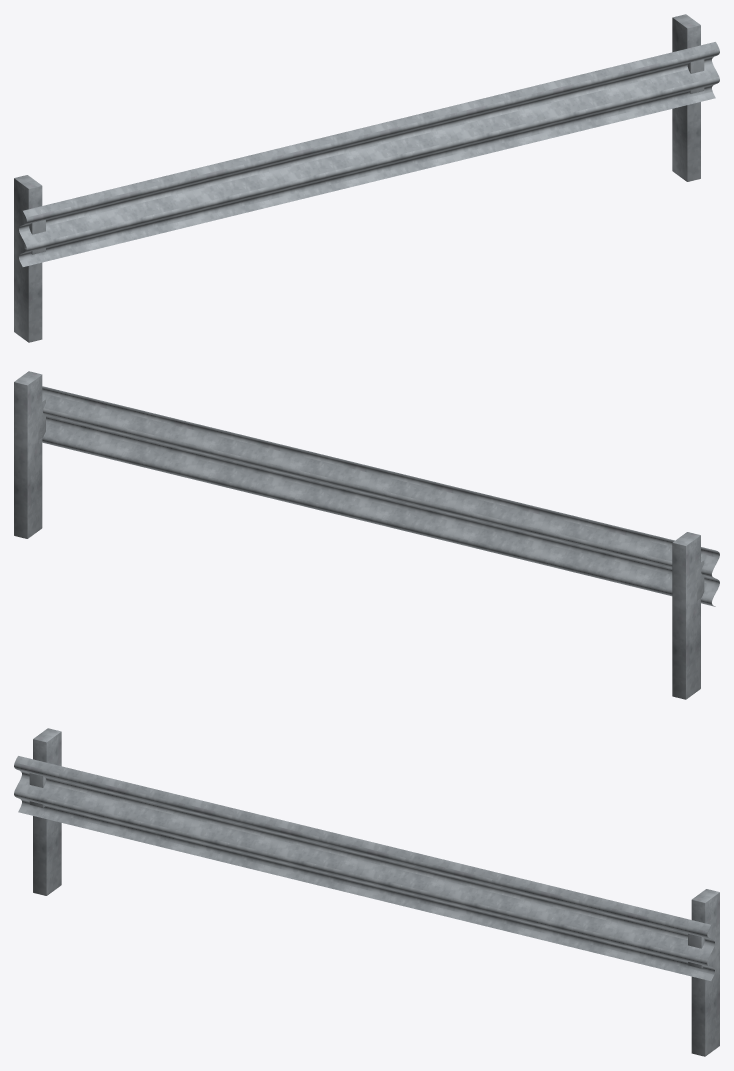
File: PAV-SIN-003_lod1.glb
3 renders of one model, top to bottom at view 1: azimuth 30°, elevation 25°; view 2: azimuth 150°, elevation 25°; view 3: azimuth 330°, elevation 25°, orthographic.
Visible parts, largest first — view 1: PAV-SIN-003_lamina, PAV-SIN-003_poste-19, PAV-SIN-003_poste19; view 2: PAV-SIN-003_lamina, PAV-SIN-003_poste19, PAV-SIN-003_poste-19; view 3: PAV-SIN-003_lamina, PAV-SIN-003_poste19, PAV-SIN-003_poste-19.
Part boxes in pixels (<box>): PAV-SIN-003_lamina: <box>18,42,719,266</box>; PAV-SIN-003_poste-19: <box>14,175,42,342</box>; PAV-SIN-003_poste19: <box>672,14,700,181</box>; PAV-SIN-003_lamina: <box>42,386,719,606</box>; PAV-SIN-003_poste19: <box>14,371,42,538</box>; PAV-SIN-003_poste-19: <box>672,532,700,699</box>; PAV-SIN-003_lamina: <box>14,756,715,980</box>; PAV-SIN-003_poste19: <box>691,889,719,1056</box>; PAV-SIN-003_poste-19: <box>33,728,61,895</box>.
Bounding box in the file's own units: 4 × 0.85 × 0.235.
Materials: 1 (1 with a texture image).
